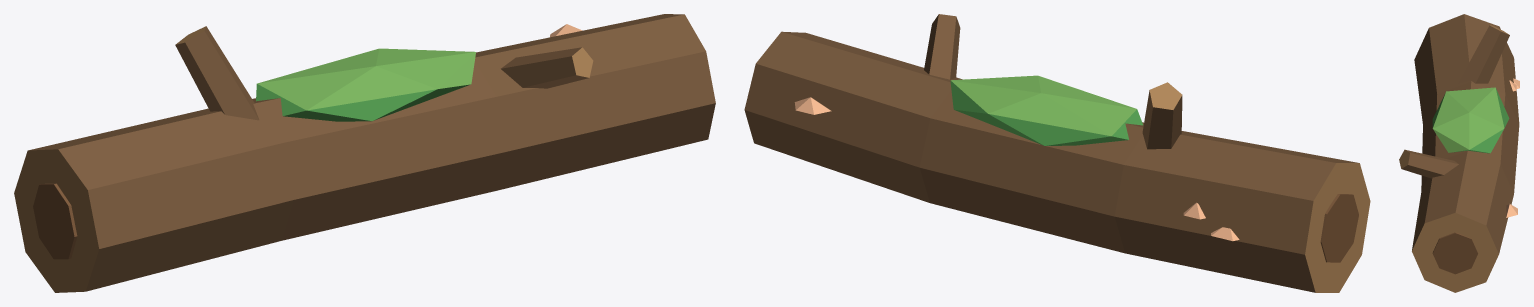
File: log.glb
3 views of the same model, side by side, from view 1: azimuth 30°, elevation 25°; view 2: azimuth 150°, elevation 25°; view 3: azimuth 270°, elevation 25° (orthographic). The views are drawn at different scales.
Parts seen in each view (by area): view 1: log; view 2: log; view 3: log.
Part boxes in pixels (<box>): log: <box>14,14,715,292</box>; log: <box>744,14,1370,292</box>; log: <box>1399,14,1519,292</box>.
Bounding box in the file's own units: 2.63 × 0.8322 × 0.6897.
